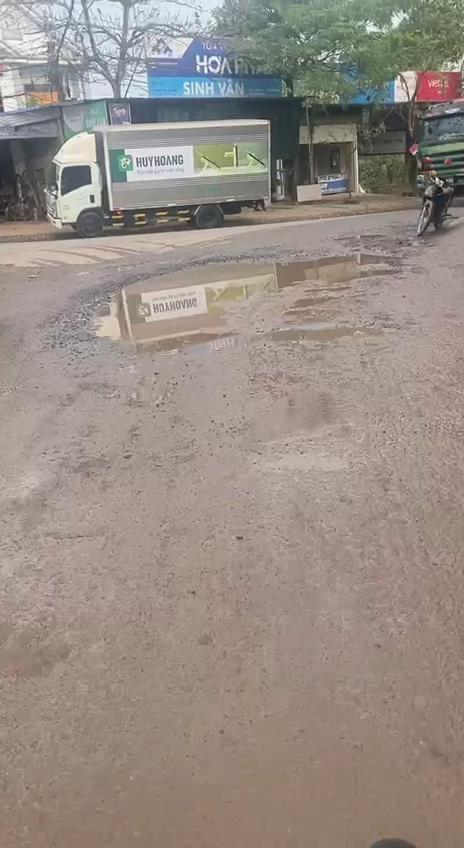pothole: (82, 249, 426, 353)
